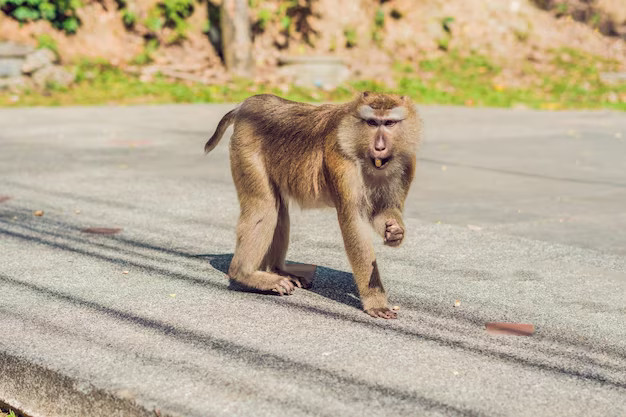ape: (203, 90, 422, 321)
